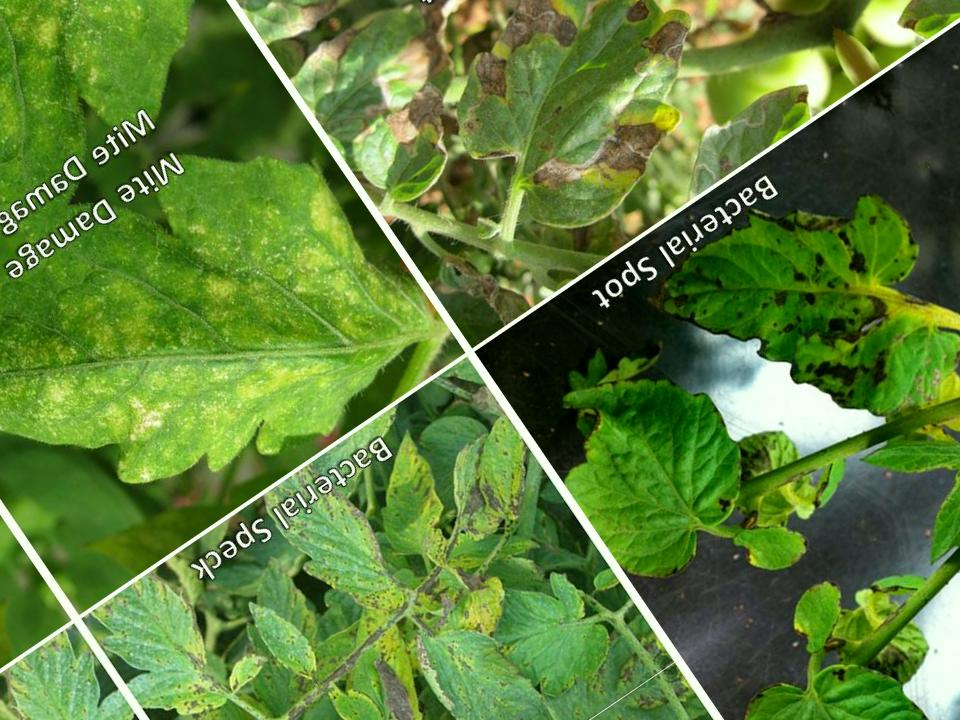Tomato Early blight leaf: (375, 0, 803, 275)
Tomato leaf bacterial spot: (625, 114, 960, 503), (500, 288, 796, 607), (86, 546, 287, 720), (454, 542, 648, 720), (263, 451, 435, 648), (331, 413, 494, 598), (387, 572, 576, 720), (408, 405, 550, 552), (313, 658, 417, 720)
